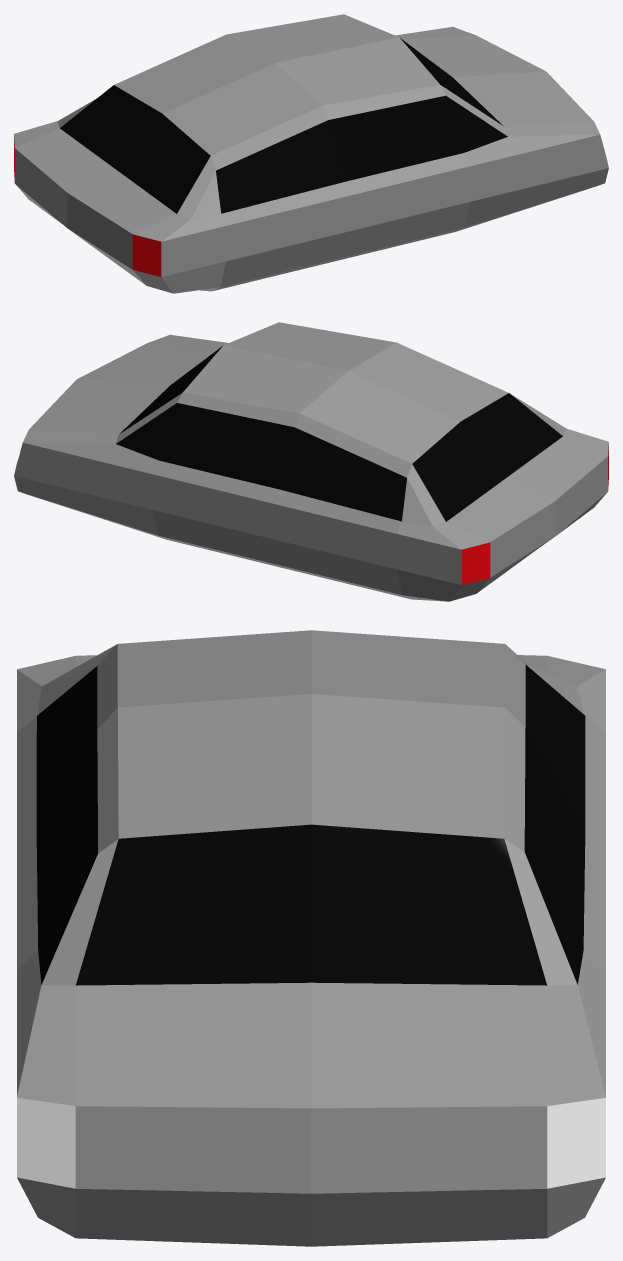
Rendered from futurcivcar3.fbx.
The picture shows the model from 3 angles, top to bottom: view 1: azimuth 30°, elevation 25°; view 2: azimuth 150°, elevation 25°; view 3: azimuth 270°, elevation 25°; orthographic projection. The views are drawn at different scales.
Parts seen in each view (by area): view 1: Cube; view 2: Cube; view 3: Cube.
Part boxes in pixels (box(x1,y1,x2,y2)): Cube: box(14, 14, 608, 293); Cube: box(14, 322, 608, 601); Cube: box(17, 630, 605, 1246).
Size of the model in its own units: 475 by 145 by 250.
